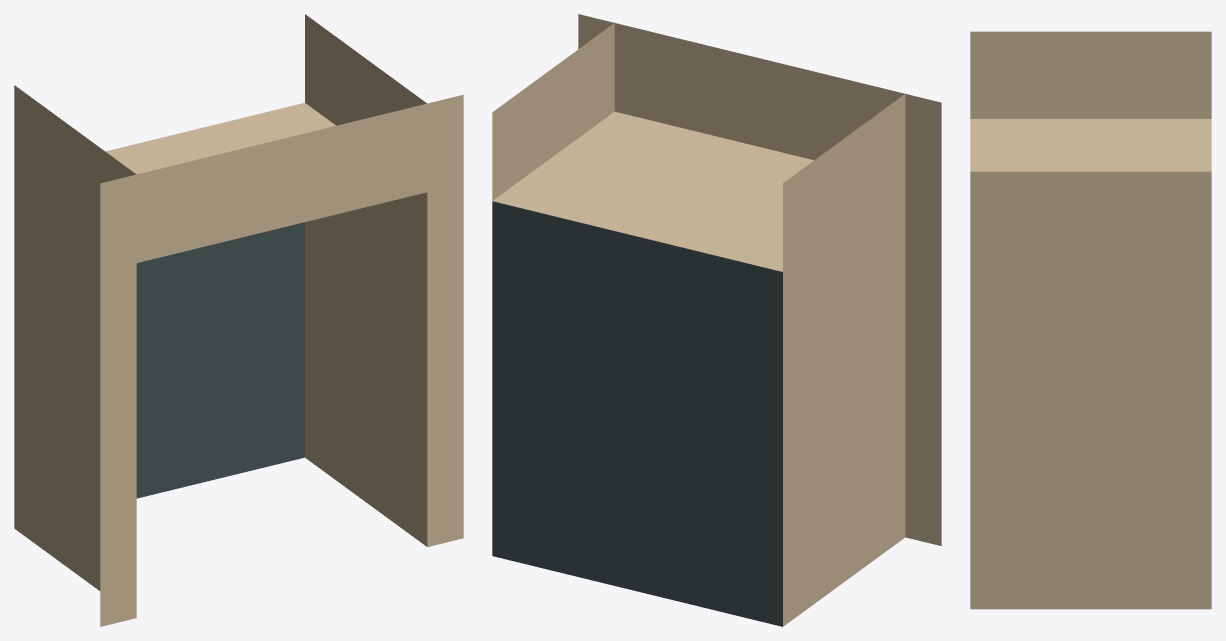
3 views of the same model, side by side, from view 1: azimuth 30°, elevation 25°; view 2: azimuth 150°, elevation 25°; view 3: azimuth 270°, elevation 25° (orthographic).
Visible parts, largest first — view 1: a2012/400/base-w1; view 2: a2012/400/base-w1; view 3: a2012/400/base-w1.
Boxes of the visible parts, left/top/right/bottom form: a2012/400/base-w1: left=14, top=14, right=463, bottom=626; a2012/400/base-w1: left=492, top=14, right=941, bottom=626; a2012/400/base-w1: left=970, top=31, right=1211, bottom=609.
Size of the model in its own units: 3 by 3.5 by 1.75.
